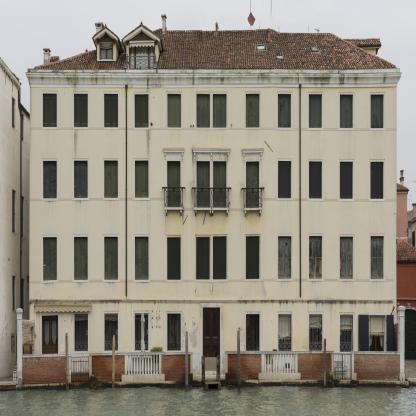Blind: (246, 161, 259, 208), (214, 161, 227, 208), (197, 161, 210, 208), (168, 160, 181, 207), (278, 236, 292, 279), (104, 237, 118, 280), (135, 237, 149, 280), (167, 237, 181, 280), (196, 237, 210, 280), (246, 236, 260, 279), (74, 238, 88, 280), (340, 236, 353, 279), (309, 236, 322, 279), (371, 236, 384, 279), (43, 238, 56, 280), (213, 237, 226, 279), (104, 161, 118, 198), (74, 161, 88, 198), (371, 162, 384, 199), (340, 162, 353, 199), (309, 162, 322, 199), (278, 161, 291, 198), (135, 161, 148, 198), (43, 161, 56, 198), (167, 94, 181, 128), (196, 94, 210, 128), (74, 94, 88, 127), (104, 94, 118, 127), (135, 94, 148, 128), (213, 94, 226, 128), (246, 94, 259, 128), (278, 94, 291, 128), (309, 94, 322, 128), (340, 94, 353, 128), (371, 94, 384, 128), (43, 94, 56, 127), (358, 314, 369, 352), (386, 315, 394, 351)
Building Outline: (16, 15, 409, 391)
Cornice: (192, 148, 231, 153), (241, 148, 264, 154), (163, 148, 185, 153)
Door: (42, 316, 58, 374)
Facade: (29, 70, 397, 391)
Floor: (30, 141, 397, 222), (30, 223, 397, 294), (30, 75, 397, 141)
Floor Slab: (30, 70, 397, 75), (30, 217, 397, 222), (30, 136, 397, 141), (30, 289, 397, 294)
Ground Floor: (30, 294, 397, 387)
Pillar: (397, 306, 405, 385), (16, 308, 23, 385)
Roof: (34, 26, 397, 70)
Sill: (194, 207, 229, 217), (243, 207, 263, 217), (164, 207, 183, 217)
Top Floor: (126, 29, 158, 75), (97, 31, 116, 75)
Window: (203, 308, 220, 371), (246, 161, 259, 208), (168, 160, 181, 207), (214, 161, 227, 208), (197, 161, 210, 208), (104, 237, 118, 280), (135, 237, 149, 280), (167, 237, 181, 280), (196, 237, 210, 280), (246, 236, 260, 279), (278, 236, 292, 279), (129, 45, 154, 69), (74, 238, 88, 280), (369, 315, 384, 353), (371, 236, 384, 279), (309, 236, 322, 279), (340, 236, 353, 279), (43, 238, 56, 280), (213, 237, 226, 279), (74, 161, 88, 198), (104, 161, 118, 198), (135, 161, 148, 198), (371, 162, 384, 199), (278, 161, 291, 198), (309, 162, 322, 199), (340, 162, 353, 199), (43, 161, 56, 198), (247, 314, 260, 351), (340, 315, 353, 352), (309, 314, 322, 351), (279, 314, 292, 351), (75, 314, 88, 351), (135, 314, 148, 351), (167, 94, 181, 128), (196, 94, 210, 128), (168, 314, 181, 350), (105, 314, 118, 350), (104, 94, 118, 127), (74, 94, 88, 127), (371, 94, 384, 128), (135, 94, 148, 128), (213, 94, 226, 128), (246, 94, 259, 128), (278, 94, 291, 128), (309, 94, 322, 128), (340, 94, 353, 128), (43, 94, 56, 127), (100, 42, 113, 59)
